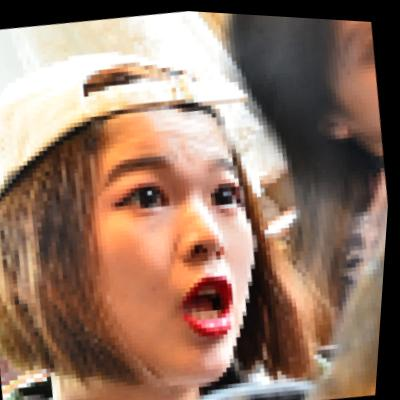surprise: (25, 82, 289, 400)
